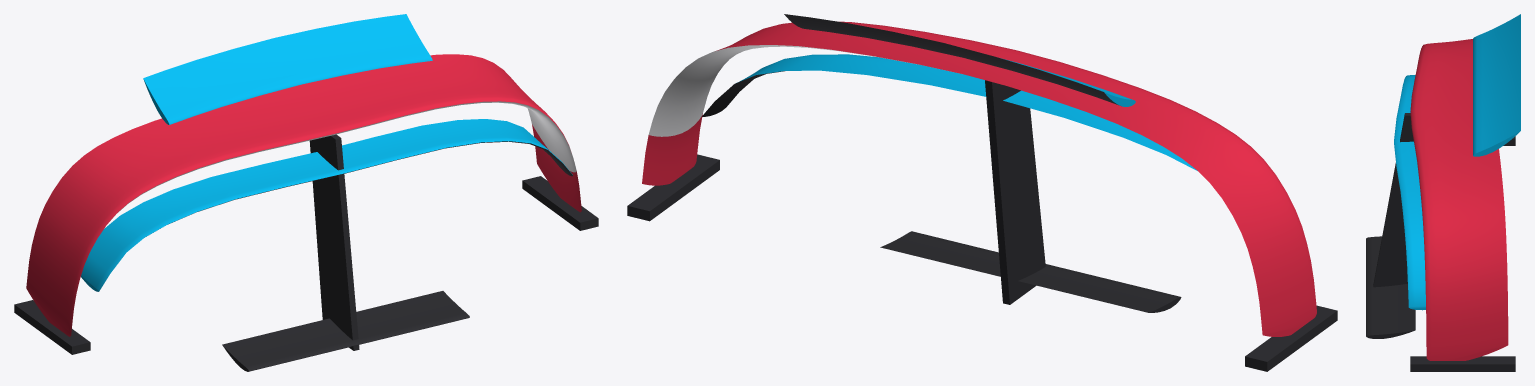
File: omega.glb
3 renders of one model, left to right at view 1: azimuth 30°, elevation 25°; view 2: azimuth 150°, elevation 25°; view 3: azimuth 270°, elevation 25°, orthographic. The views are drawn at different scales.
Visible parts, largest first — view 1: RearWing_omega, DRSFlap_omega; view 2: RearWing_omega, DRSFlap_omega; view 3: RearWing_omega, DRSFlap_omega.
Boxes of the visible parts, <box> form: RearWing_omega: <box>14,54,598,371</box>; DRSFlap_omega: <box>143,14,432,124</box>; RearWing_omega: <box>627,21,1337,371</box>; DRSFlap_omega: <box>784,14,1135,106</box>; RearWing_omega: <box>1366,39,1515,371</box>; DRSFlap_omega: <box>1473,14,1520,156</box>.
Bounding box in the file's own units: 2 × 0.9171 × 0.5586.
